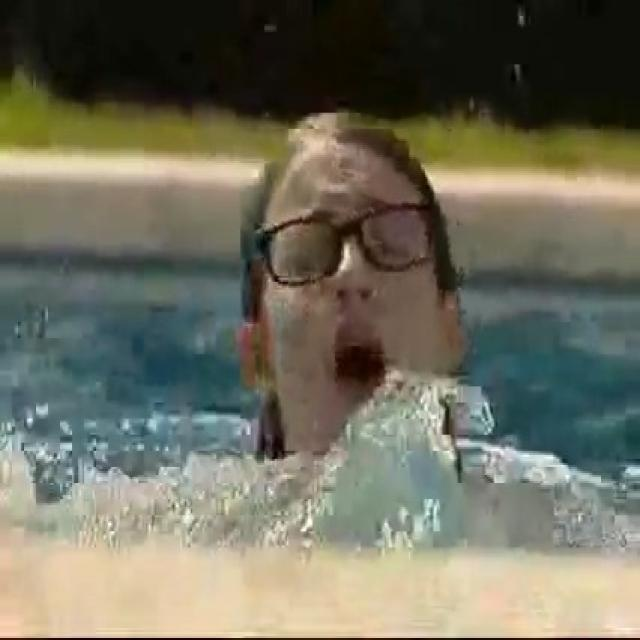Drowning: (218, 114, 480, 532)
